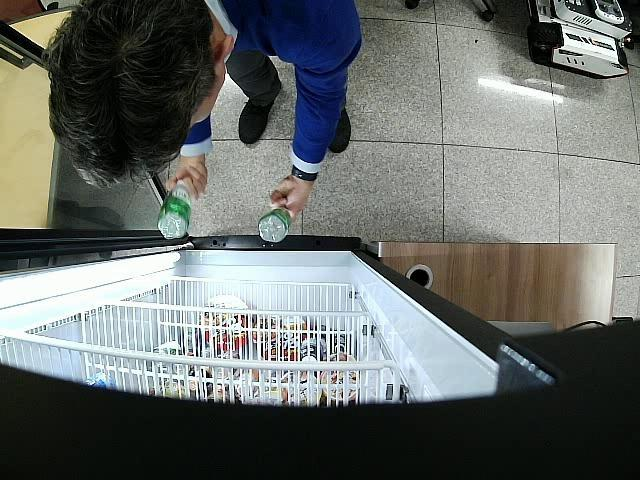18_trevi: (157, 178, 191, 240), (260, 209, 291, 242)
